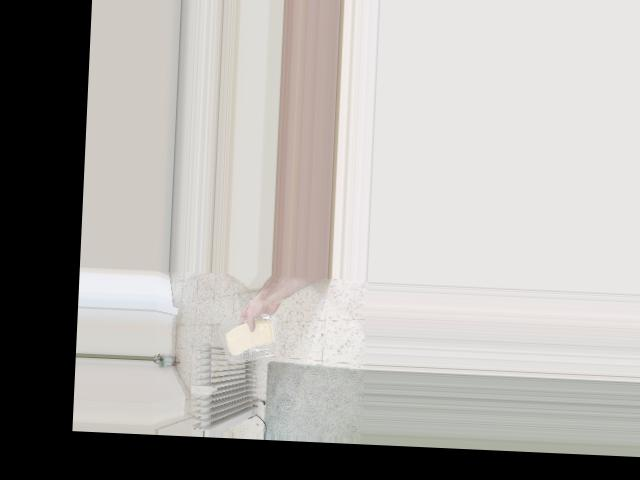cheese: (219, 314, 279, 358)
